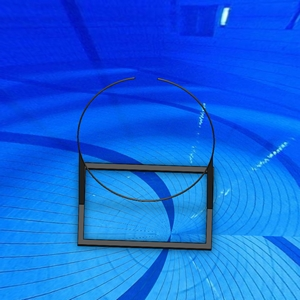circle: (77, 77, 216, 252)
